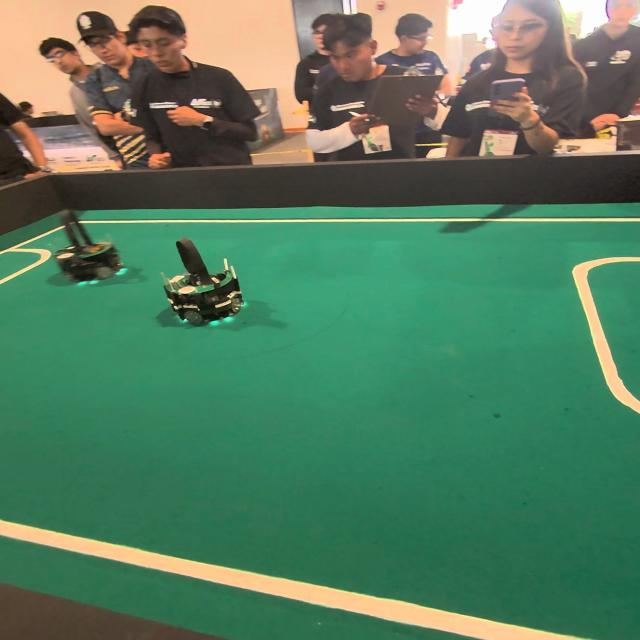Robot: (156, 240, 255, 335), (45, 212, 133, 298)
